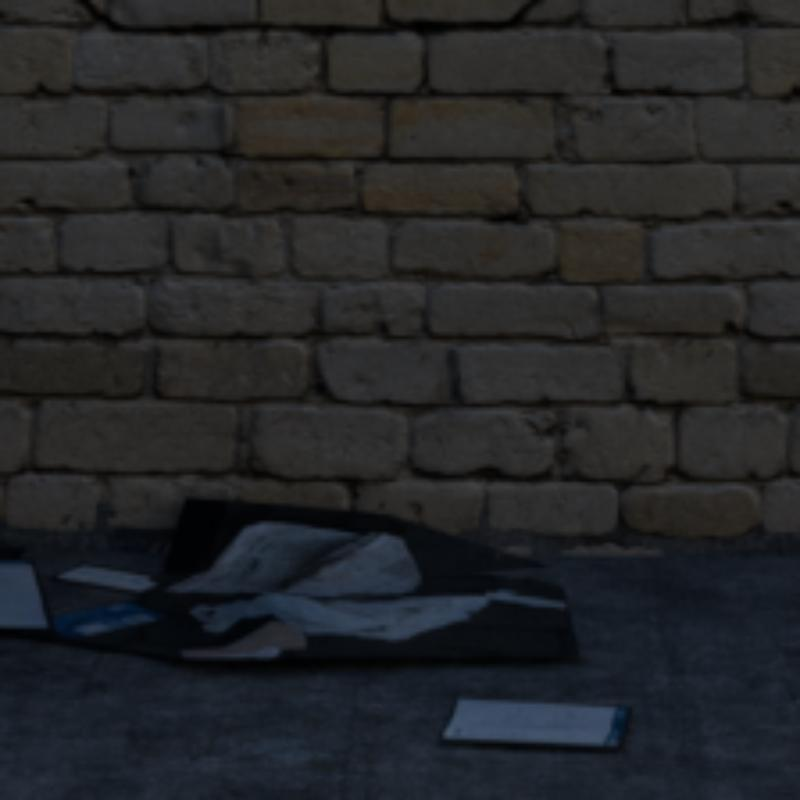pothole: (79, 0, 539, 34)
